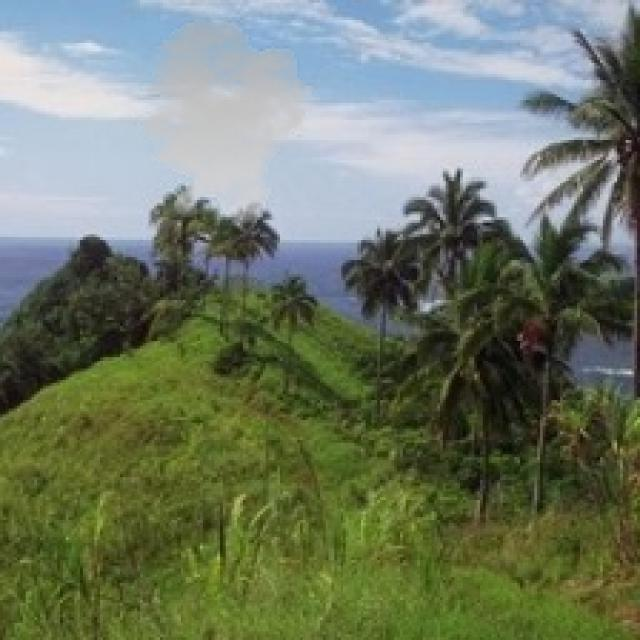smoke: (120, 17, 320, 226)
